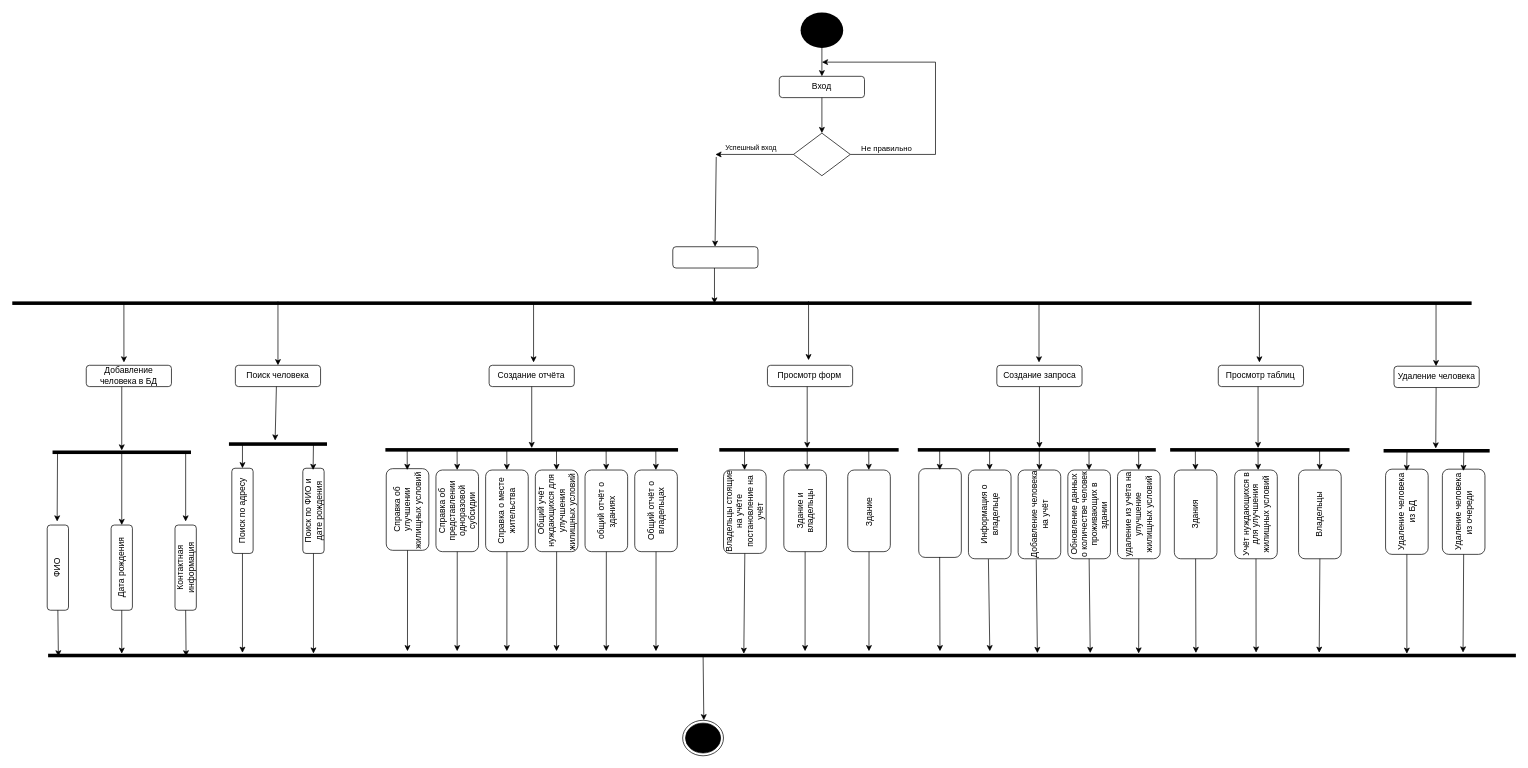
The diagram is 1528 pixels wide and 768 high, and some of its shapes have lost their labels. The box of each missing label's shape, as (x1, y1, x2, y2) in pixels:
Взаимодействие с БД: (672, 246, 758, 268)
Информация о здании: (918, 468, 961, 557)
